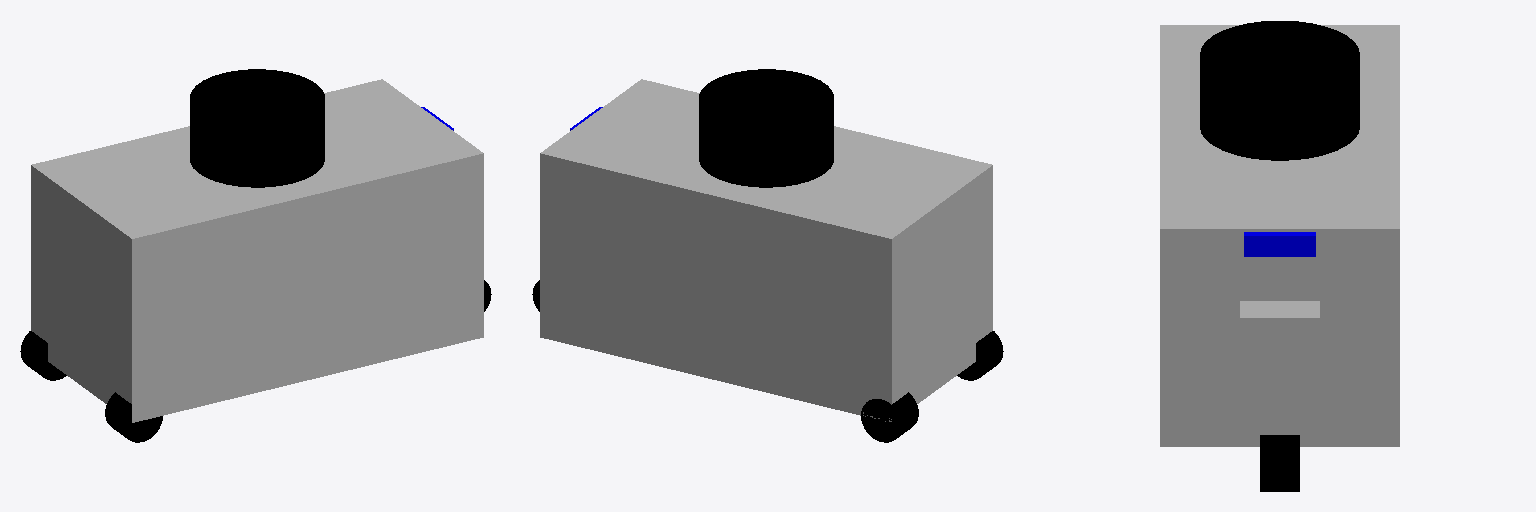
URDF robot description (tortoisebot):
<?xml version="1.0"?>
<robot name="tortoisebot">

  <material name="silver">
    <color rgba="0.75 0.75 0.75 1.0"/>
  </material>
  <material name="black">
    <color rgba="0.0 0.0 0.0 1.0"/>
  </material>

  <link name="base_link">
    <visual>
      <geometry>
        <box size="0.6 0.3 0.3"/>
      </geometry>
      <material name="silver">
        <color rgba="0.75 0.75 0.75 1.0"/>
      </material>
    </visual>
    <collision>
      <geometry>
        <box size="0.6 0.3 0.3"/>
      </geometry>
    </collision>
    <inertial>
      <mass value="1.0"/>
      <inertia ixx="0.015" iyy="0.0375" izz="0.0375" ixy="0" ixz="0" iyz="0"/>
    </inertial>
  </link>


   <link name="imu_link">
            <visual>
                <origin xyz="0 0 0" rpy="0 0 0"/>
                <geometry>
                    <box size="0.03899 0.03785 0.01338"/>
                </geometry>
                <material name="imu_black">
                    <color rgba="0.1 0.1 0.1 1"/>
                </material>
            </visual>

            <inertial>
                <mass value="0.031" />
                <origin xyz="0 0 0" rpy="0 0 0"/>
                <inertia
                    ixx="0.000004163421158"
                    ixy="0.0"
                    ixz="0.0"
                    iyy="0.0016992445"
                    iyz="0.0"
                    izz="0.0029528425" />
            </inertial>
        </link>


      <joint name="imu_joint" type="fixed">
            <parent link="base_link"/>
            <child link="imu_link" />
            <origin xyz="0 0 0" rpy="0 0 0"/>
        </joint>

 
 <gazebo reference="imu_link">
            <material>
                <ambient>0.1 0.1 0.1 1</ambient>
                <diffuse>0.1 0.1 0.1 1</diffuse>
                <specular>0.1 0.1 0.1 1</specular>
            </material>
            <sensor name="imu_sensor" type="imu">
                <topic>imu/data</topic>
                <update_rate>15</update_rate>
                <always_on>true</always_on>
                <visualize>true</visualize>
                <gz_frame_id>imu_link</gz_frame_id>
            </sensor>

        

  </gazebo>



  <!-- LiDAR Link -->
<link name="lidar_link">
  <visual>
    <geometry>
      <cylinder length="0.10" radius="0.10"/>
    </geometry>
    <material name="black">
    <color rgba="0.0 0.0 0.0 1.0"/>
    </material>
  </visual>
  <!-- Add to My lidar_link -->
<collision>
  <geometry>
    <cylinder length="0.10" radius="0.10"/>
  </geometry>
</collision>
<inertial>
  <mass value="0.125"/>
  <inertia ixx="0.001" iyy="0.001" izz="0.001" ixy="0" ixz="0" iyz="0"/>
</inertial>

</link>

  <joint name="lidar_joint" type="fixed">
  <parent link="base_link"/>
  <child link="lidar_link"/>
  <origin xyz="0 0 0.2" rpy="0 0 0"/>
</joint>


  <link name="front_caster">
    <visual>
      <geometry>
        <box size="0.1 0.1 0.1"/>
      </geometry>
      <material name="silver"/>
    </visual>
    <collision>
      <geometry>
        <box size="0.1 0.1 0.1"/>
      </geometry>
    </collision>
    <inertial>
      <mass value="0.1"/>
      <inertia ixx="0.00083" iyy="0.00083" izz="0.000167" ixy="0" ixz="0" iyz="0"/>
    </inertial>
  </link> 


  <joint name="front_caster_joint" type="continuous">
    <axis xyz="0 0 1"/>
    <parent link="base_link"/>
    <child link="front_caster"/>
    <origin rpy="0 0 0" xyz="0.3 0 0"/>
  </joint>

  <link name="front_wheel">
    <visual>
      <geometry>
        <cylinder length="0.05" radius="0.035"/>
      </geometry>
      <material name="black"/>
    </visual>
    <collision>
      <geometry>
        <cylinder length="0.05" radius="0.035"/>
      </geometry>
    </collision>
    <inertial>
      <mass value="0.1"/>
      <inertia ixx="5.1458e-5" iyy="5.1458e-5" izz="6.125e-5" ixy="0" ixz="0" iyz="0"/>
    </inertial>
  </link>

  <joint name="front_wheel_joint" type="continuous">
    <axis xyz="0 0 1"/>
    <parent link="front_caster"/>
    <child link="front_wheel"/>
    <origin rpy="-1.5708 0 0" xyz="0.05 0 -.15"/>
  </joint>

  <link name="right_wheel">
    <visual>
      <geometry>
        <cylinder length="0.05" radius="0.035"/>
      </geometry>
      <material name="black">
        <color rgba="0 0 0 1"/>
      </material>
    </visual>
    <collision>
      <geometry>
        <cylinder length="0.05" radius="0.035"/>
      </geometry>
    </collision>
    <inertial>
      <mass value="0.1"/>
      <inertia ixx="5.1458e-5" iyy="5.1458e-5" izz="6.125e-5" ixy="0" ixz="0" iyz="0"/>
    </inertial>
  </link>

  <joint name="right_wheel_joint" type="continuous">
    <axis xyz="0 0 1"/>
    <parent link="base_link"/>
    <child link="right_wheel"/>
    <origin rpy="-1.5708 0 0" xyz="-0.2825 -0.125 -.15"/>
  </joint>

  <link name="left_wheel">
    <visual>
      <geometry>
        <cylinder length="0.05" radius="0.035"/>
      </geometry>
      <material name="black"/>
    </visual>
    <collision>
      <geometry>
        <cylinder length="0.05" radius="0.035"/>
      </geometry>
    </collision>
    <inertial>
      <mass value="0.1"/>
      <inertia ixx="5.1458e-5" iyy="5.1458e-5" izz="6.125e-5" ixy="0" ixz="0" iyz="0"/>
    </inertial>
  </link>

  <joint name="left_wheel_joint" type="continuous">
    <axis xyz="0 0 1"/>
    <parent link="base_link"/>
    <child link="left_wheel"/>
    <origin rpy="-1.5708 0 0" xyz="-0.2825 0.125 -.15"/>
  </joint>

  
  <link name ="base_footprint">
  </link>

  <joint name ="base_footprint_joint" type="fixed">
    <parent link="base_footprint"/>
    <child link="base_link"/>
    <origin rpy="0 0 0" xyz="0 0 -0.1"/>
  </joint>

<link name="camera_link">
    <visual>
        <geometry>
            <box size="0.02 0.09 0.03"/>
        </geometry>
      <material name="blue">
        <color rgba="0.0 0.0 1.0 1.0"/>
        </material>
    </visual>
    <collision>
        <geometry>
            <box size="0.02 0.09 0.03"/>
        </geometry>
    </collision>
    <inertial>
        <mass value="0.01"/>
        <inertia ixx="0.0001" ixy="0.0" ixz="0.0" iyy="0.0001" iyz="0.0" izz="0.0001"/>
    </inertial>
</link>
 <joint name="camera_joint" type="fixed">
  <parent link="base_link"/>
  <child link="camera_link"/>
  <origin xyz="0.3 0.0 0.13" rpy="0 0 0"/>
</joint>

    <joint name="camera_optical_joint" type="fixed">
    <parent link="camera_link"/>
    <child link="camera_optical_link"/>
    <origin xyz="0 0 0" rpy="-1.5708 0 -1.5708"/>
   </joint>

    <link name ="camera_optical_link">
  </link>


<gazebo reference="camera_link">
  <sensor name="depth_camera" type="rgbd_camera">
  <gz_frame_id>camera_optical_link</gz_frame_id>
  <!-- <child_frame_id>camera_optical_link<child_frame_id> -->
    <update_rate>10</update_rate>
    <pose>0 0 0 0 0 0</pose>
    <camera>
      <horizontal_fov>2</horizontal_fov>
      <image>
        <width>640</width>
        <height>480</height>
        <format>R8G8B8</format>
      </image>
      <clip>
        <near>0.1</near>
        <far>8.0</far>
      </clip>
    </camera>
    <always_on>1</always_on>
    <visualize>true</visualize>
    <topic>depth_camera</topic>
  </sensor>
</gazebo>

<gazebo reference="lidar_link">
  <sensor name="gpu_lidar" type="gpu_lidar">"
    <pose relative_to='lidar_link'>0 0 0 0 0 0</pose>
    <gz_frame_id>lidar_link</gz_frame_id>
    
    <topic>scan</topic>
    <update_rate>10</update_rate>
    <ray>
        <scan>
            <horizontal>
                <samples>640</samples>
                <resolution>1</resolution>
                <min_angle>-3.14</min_angle>
                <max_angle>3.14</max_angle>
            </horizontal>
            <vertical>
                <samples>1</samples>
                <resolution>0.01</resolution>
                <min_angle>0</min_angle>
                <max_angle>0</max_angle>
            </vertical>
        </scan>
        <range>
            <min>0.08</min>
            <max>10.0</max>
            <resolution>0.01</resolution>

        </range>
        <!-- <noise type="gaussian">
            <mean>0.0</mean>               
            <stddev>0.02</stddev>          
          </noise> -->
    </ray>
    <always_on>1</always_on>
    <visualize>true</visualize>
    <!-- <plugin
      filename="gz-sim-sensors-system"
      name="gz::sim::systems::Sensors">
      <render_engine>ogre2</render_engine>
  </plugin> -->
  </sensor>
</gazebo>
  


<gazebo>
  <plugin
    filename="gz-sim-joint-state-publisher-system"
    name="gz::sim::systems::JointStatePublisher">
    <topic>joint_states</topic>
    <joint_name>left_wheel_joint</joint_name>
    <joint_name>right_wheel_joint</joint_name>
    <joint_name>front_caster_joint</joint_name>
    <joint_name>front_wheel_joint</joint_name>
  </plugin>
</gazebo>

<gazebo>
 <plugin filename="gz-sim-diff-drive-system" name="gz::sim::systems::DiffDrive">
  <left_joint>left_wheel_joint</left_joint>
  <right_joint>right_wheel_joint</right_joint>
  <wheel_separation>0.25</wheel_separation>
  <wheel_radius>0.035</wheel_radius>
  <frame_id>odom</frame_id>
  <odom_topic>odom</odom_topic>
  <publish_odom>true</publish_odom>
  <child_frame_id>base_footprint</child_frame_id>
  <topic>cmd_vel</topic>
  <tf_topic>tf</tf_topic>
  <publish_tf>true</publish_tf>
  <publishWheelJointState>true</publishWheelJointState> 
 </plugin>
</gazebo>

</robot>

--- Facts derived from the render (not from the file) ---
3 views of the same robot in one strip: view 1: azimuth 30°, elevation 25°; view 2: azimuth 150°, elevation 25°; view 3: azimuth 270°, elevation 25° (orthographic).
Robot: tortoisebot — 10 links, 9 joints (4 continuous, 5 fixed); root link base_footprint; default pose: all joints at 0.
Links seen in each view (by area): view 1: base_link, lidar_link, right_wheel, left_wheel; view 2: base_link, lidar_link, left_wheel, right_wheel; view 3: base_link, lidar_link, front_caster, front_wheel, camera_link.
Boxes of the visible links, <box> form: base_link: <box>31,79,483,422</box>; lidar_link: <box>190,69,324,187</box>; right_wheel: <box>105,392,162,442</box>; left_wheel: <box>20,331,66,380</box>; base_link: <box>540,79,992,421</box>; lidar_link: <box>699,69,833,187</box>; left_wheel: <box>861,392,918,442</box>; right_wheel: <box>957,331,1003,380</box>; base_link: <box>1160,25,1399,446</box>; lidar_link: <box>1200,21,1359,160</box>; front_caster: <box>1240,301,1319,390</box>; front_wheel: <box>1260,435,1299,491</box>; camera_link: <box>1244,232,1315,256</box>.
Bounding box of the posed robot: 0.7025 × 0.3 × 0.435 m (x, y, z).
Geometry: primitives only (box / cylinder / sphere), no mesh files.
